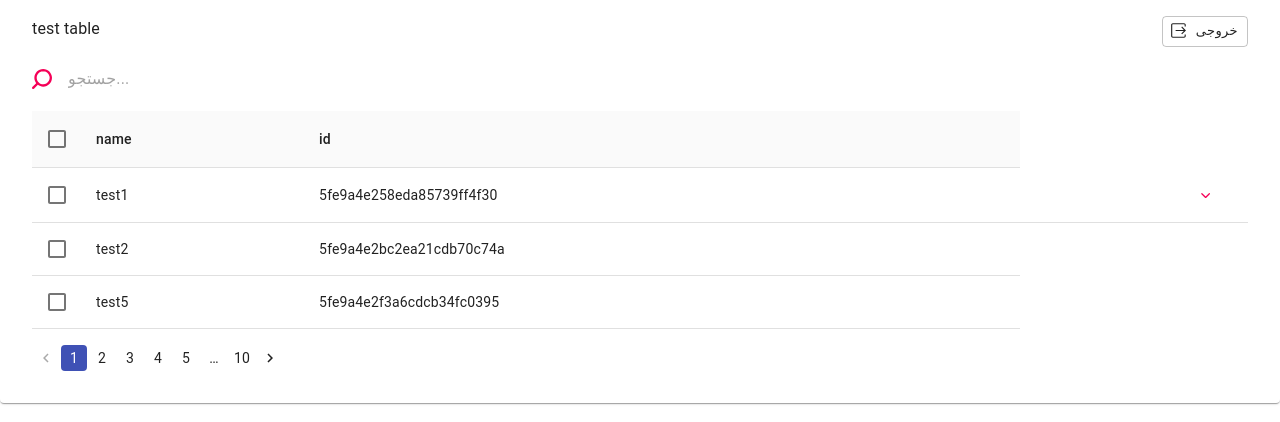
Test: should show two selected
Click the 1st icon with test id "table_collapse_row_checkbox" at (57, 195), box [45, 183, 69, 207]
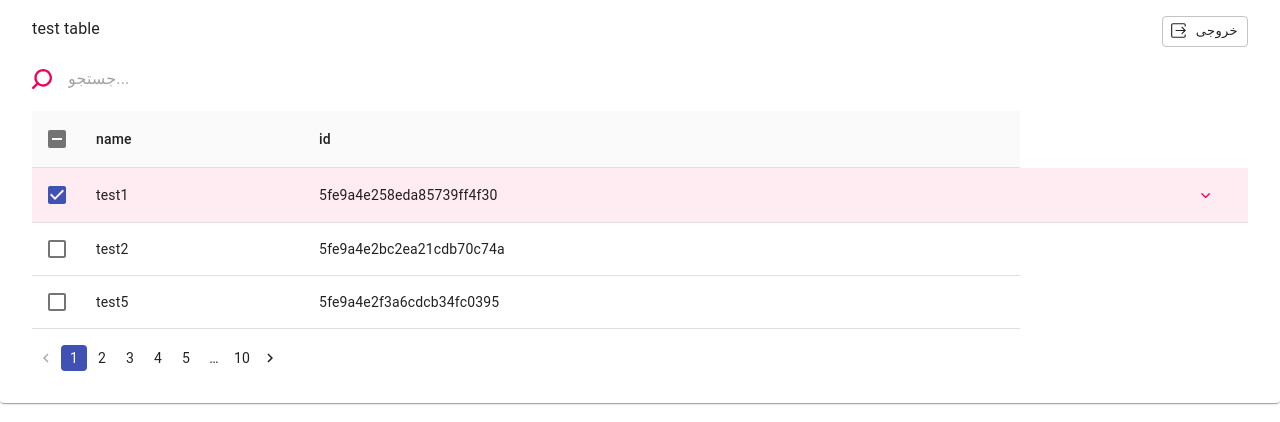
Click the icon with test id "table_collapse_row_checkbox" next to "test2" at (57, 248), box [45, 236, 69, 260]
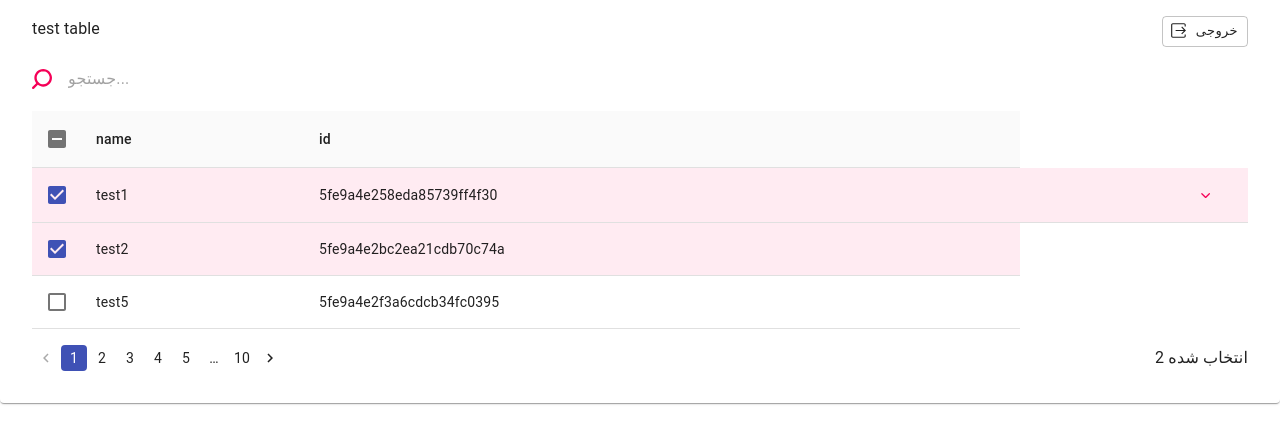
Click the icon with test id "table_collapse_row_checkbox" next to "test5" at (57, 302), box [45, 290, 69, 314]
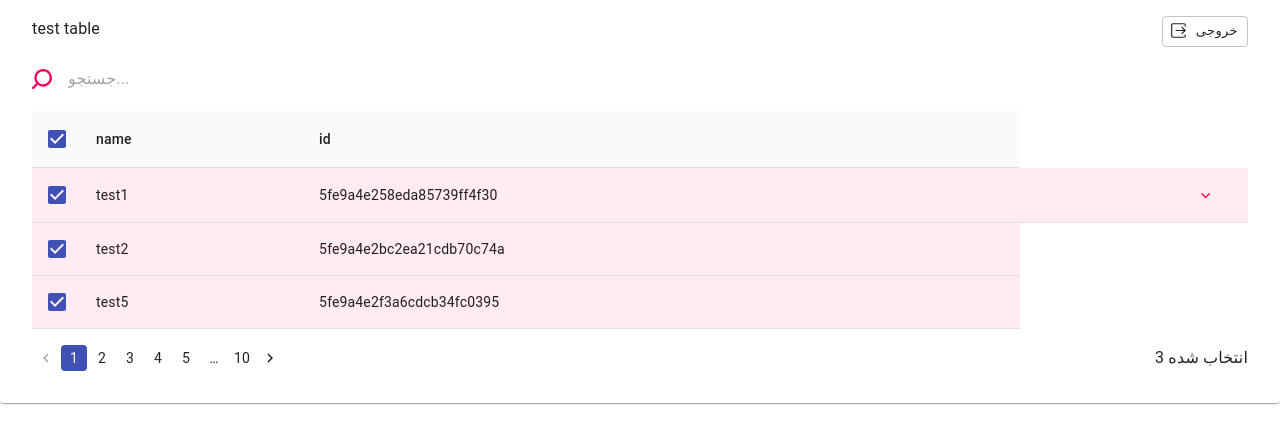
Expected: the text with test id "table_selected_text" shows "3", [1155, 348, 1164, 367]
